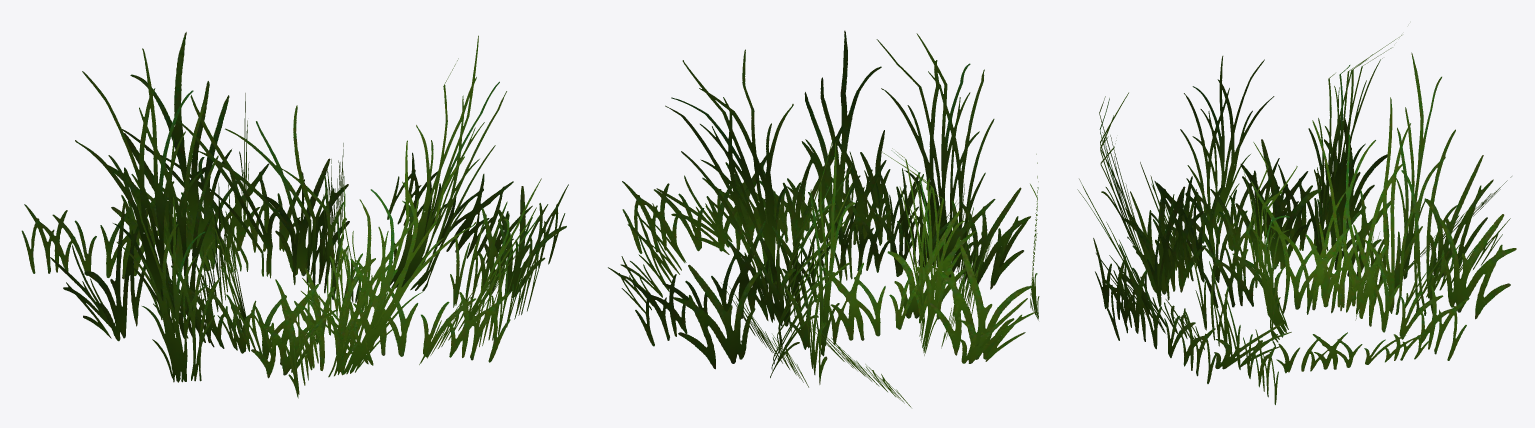
3 views of the same model, side by side, from view 1: azimuth 30°, elevation 25°; view 2: azimuth 150°, elevation 25°; view 3: azimuth 270°, elevation 25° (orthographic). The views are drawn at different scales.
Visible parts, largest first — view 1: SM_BM_GrassLong_01_LOD0; view 2: SM_BM_GrassLong_01_LOD0; view 3: SM_BM_GrassLong_01_LOD0.
Boxes of the visible parts, x1,y1,x2,y2 form: SM_BM_GrassLong_01_LOD0: [21, 32, 568, 398]; SM_BM_GrassLong_01_LOD0: [608, 30, 1039, 407]; SM_BM_GrassLong_01_LOD0: [1077, 35, 1516, 404].
Bounding box in the file's own units: 1.13 × 0.6198 × 0.9578.
Materials: 1 (1 with a texture image).
